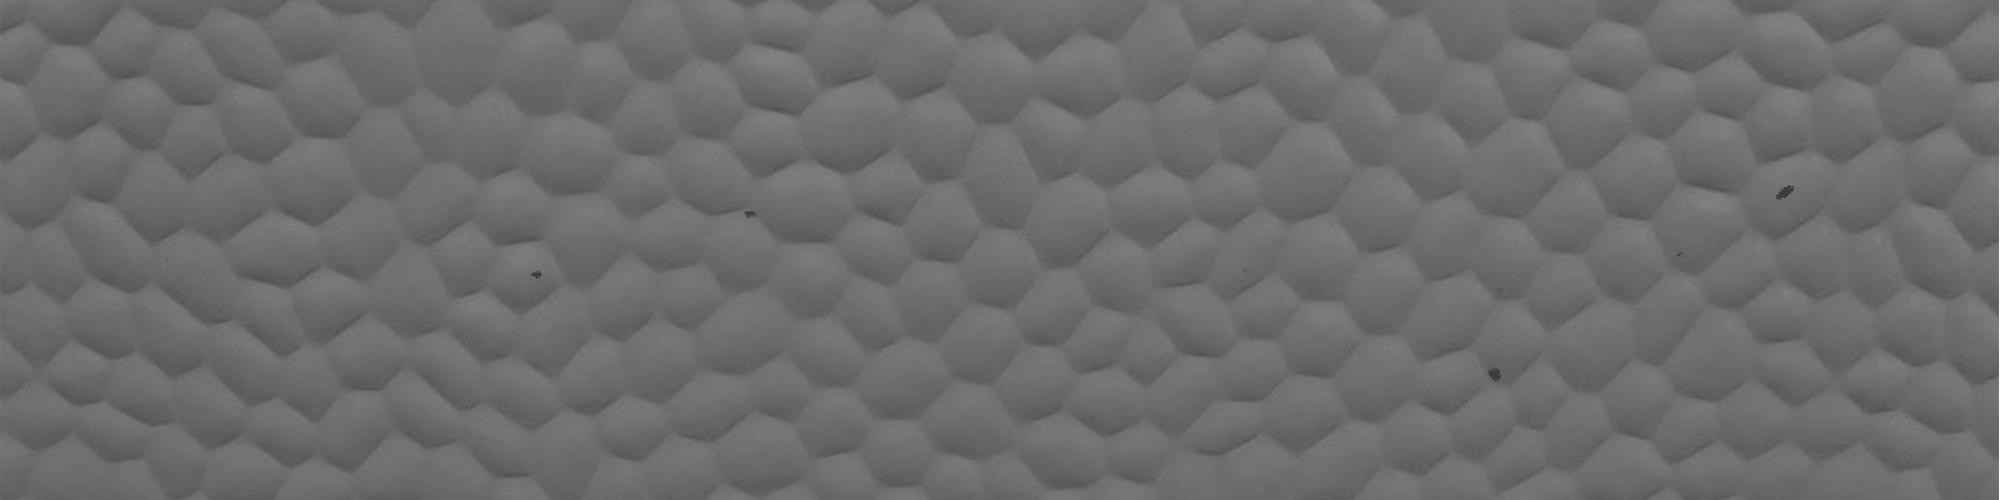Decomposed: (740, 202, 776, 226), (529, 261, 550, 290), (1483, 365, 1505, 384)
